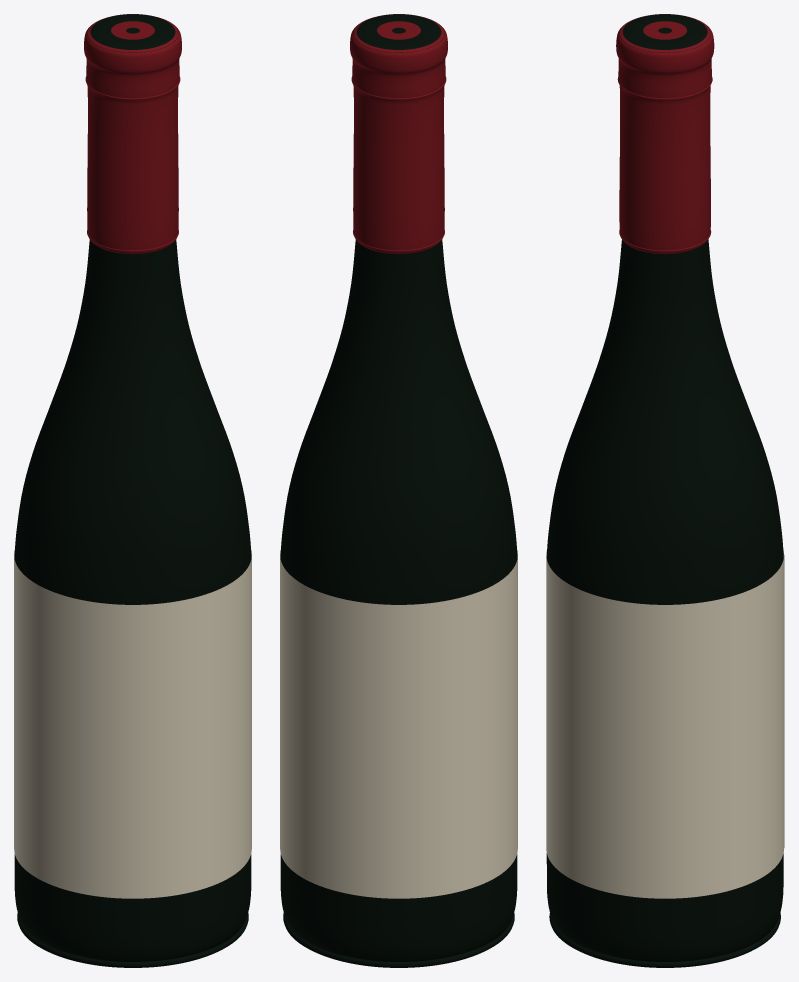
Rendered from nocturne-bottle.glb.
3 views of the same model, side by side, from view 1: azimuth 30°, elevation 25°; view 2: azimuth 150°, elevation 25°; view 3: azimuth 270°, elevation 25° (orthographic).
Parts seen in each view (by area): view 1: Dark green glass, Warm uncoated paper, full wrap, Rolled metallic capsule with curved lip, Nocturne Cabernet bottle; view 2: Dark green glass, Warm uncoated paper, full wrap, Rolled metallic capsule with curved lip, Nocturne Cabernet bottle; view 3: Dark green glass, Warm uncoated paper, full wrap, Rolled metallic capsule with curved lip, Nocturne Cabernet bottle.
Boxes of the visible parts, x1=… form: Dark green glass: x1=14, y1=14, x2=251, y2=961; Warm uncoated paper, full wrap: x1=14, y1=549, x2=251, y2=898; Rolled metallic capsule with curved lip: x1=84, y1=14, x2=181, y2=254; Nocturne Cabernet bottle: x1=17, y1=76, x2=248, y2=967; Dark green glass: x1=280, y1=14, x2=517, y2=961; Warm uncoated paper, full wrap: x1=280, y1=549, x2=517, y2=898; Rolled metallic capsule with curved lip: x1=350, y1=14, x2=447, y2=254; Nocturne Cabernet bottle: x1=283, y1=76, x2=514, y2=967; Dark green glass: x1=546, y1=14, x2=783, y2=961; Warm uncoated paper, full wrap: x1=546, y1=550, x2=783, y2=898; Rolled metallic capsule with curved lip: x1=616, y1=14, x2=714, y2=254; Nocturne Cabernet bottle: x1=549, y1=77, x2=784, y2=967.
Bounding box in the file's own units: 0.84 × 3.47 × 0.842.
